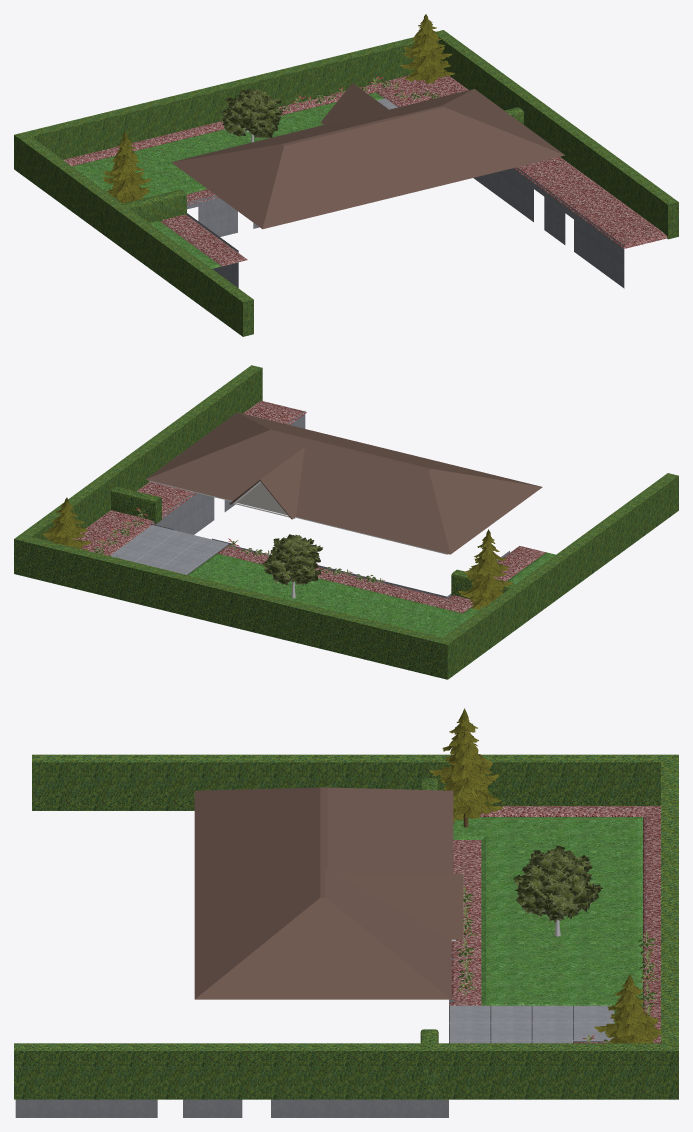
File: KBH_Interior_model1860_yard.gltf
The picture shows the model from 3 angles, top to bottom: view 1: azimuth 30°, elevation 25°; view 2: azimuth 150°, elevation 25°; view 3: azimuth 270°, elevation 25°; orthographic projection. The views are drawn at different scales.
Visible parts, largest first — view 1: Line23789, Line23754, Line22003, Line23760, Line22004, tree6_leaves_003, Leaves/001_Leavs_003, Line22005, Leaves/001_Leavs_004, Line23756, Box8779; view 2: Line23789, Line23754, Line22004, Line22003, Line22005, Line23760, tree6_leaves_003, Leaves/001_Leavs_004, Line23756, Box8780, Leaves/001_Leavs_003, Line23759 (+2 smaller); view 3: Line23789, Line23754, Line22004, Line23760, Line22003, tree6_leaves_003, Line23756, Line22005, Leaves/001_Leavs_004, Leaves/001_Leavs_003, Box5741, Box5744 (+6 smaller).
Part boxes in pixels (x1,y1,x2,y2): Line23789: [14, 30, 678, 336]; Line23754: [171, 89, 564, 229]; Line22003: [63, 75, 667, 248]; Line23760: [187, 167, 624, 288]; Line22004: [72, 92, 383, 268]; tree6_leaves_003: [221, 89, 283, 137]; Leaves/001_Leavs_003: [400, 14, 454, 83]; Line22005: [160, 189, 247, 266]; Leaves/001_Leavs_004: [103, 131, 151, 203]; Line23756: [320, 83, 396, 124]; Box8779: [100, 189, 186, 234]; Line23789: [14, 365, 678, 679]; Line23754: [145, 412, 542, 554]; Line22004: [188, 552, 555, 637]; Line22003: [72, 401, 306, 555]; Line22005: [217, 545, 545, 613]; Line23760: [150, 411, 509, 598]; tree6_leaves_003: [261, 534, 322, 585]; Leaves/001_Leavs_004: [458, 529, 512, 609]; Line23756: [229, 447, 304, 519]; Box8780: [111, 486, 161, 524]; Leaves/001_Leavs_003: [42, 497, 91, 550]; Line23759: [237, 482, 287, 515]; Line23789: [14, 754, 678, 1099]; Line23754: [194, 787, 453, 999]; Line22004: [453, 817, 642, 1036]; Line23760: [15, 958, 454, 1117]; Line22003: [480, 806, 660, 1043]; tree6_leaves_003: [513, 845, 603, 923]; Line23756: [339, 873, 463, 939]; Line22005: [449, 840, 481, 1005]; Leaves/001_Leavs_004: [429, 708, 503, 823]; Leaves/001_Leavs_003: [594, 974, 660, 1043]; Box5741: [449, 1005, 490, 1023]; Box5744: [490, 1005, 531, 1023].
Size of what is drawn, in the model's own units: 39 by 10.76 by 37.
